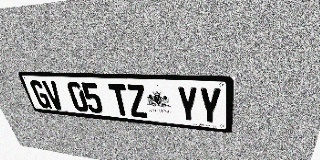0: (66, 82, 89, 112)
5: (81, 82, 104, 114)
G: (29, 80, 52, 109)
T: (108, 83, 131, 116)
V: (41, 81, 65, 110)
Y: (198, 87, 222, 125), (176, 86, 199, 123)
Z: (125, 84, 149, 118)
